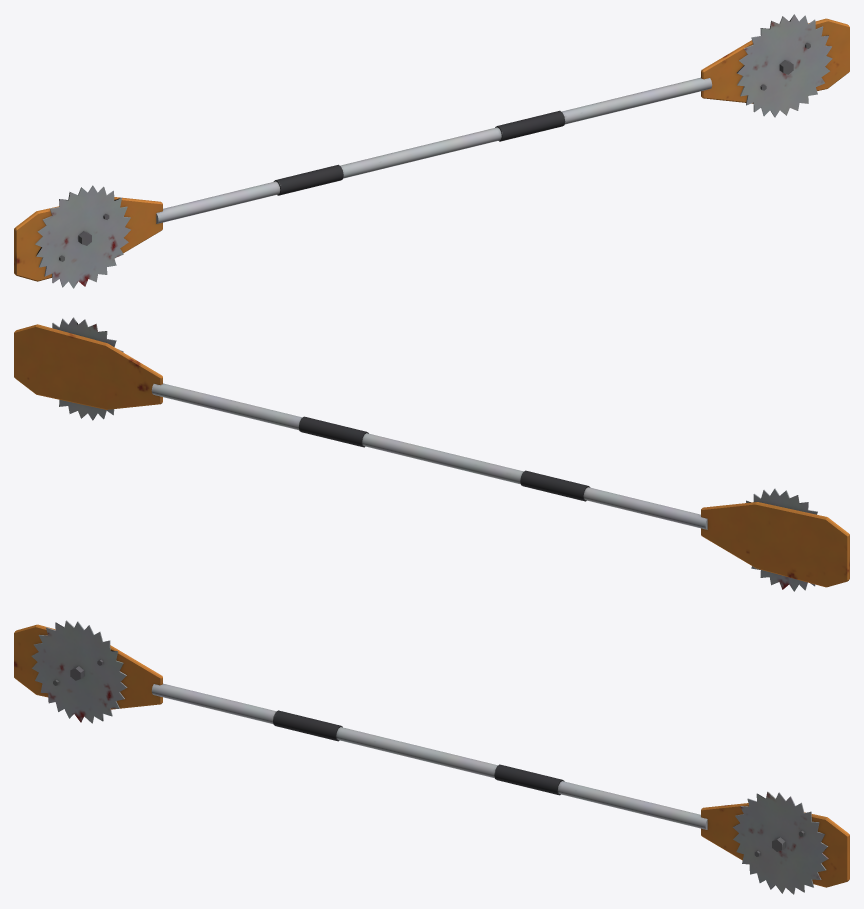
File: AC_RemoDestripador.fbx
3 renders of one model, top to bottom at view 1: azimuth 30°, elevation 25°; view 2: azimuth 150°, elevation 25°; view 3: azimuth 330°, elevation 25°, orthographic.
Visible parts, largest first — view 1: AC_RemoDestripador; view 2: AC_RemoDestripador; view 3: AC_RemoDestripador.
Part boxes in pixels (box(x1,y1,x2,y2)): AC_RemoDestripador: box(14, 14, 849, 288); AC_RemoDestripador: box(14, 317, 849, 591); AC_RemoDestripador: box(14, 620, 849, 894).
Bounding box in the file's own units: 2.26 × 0.2598 × 0.0458.
1 material, 1 textured.
